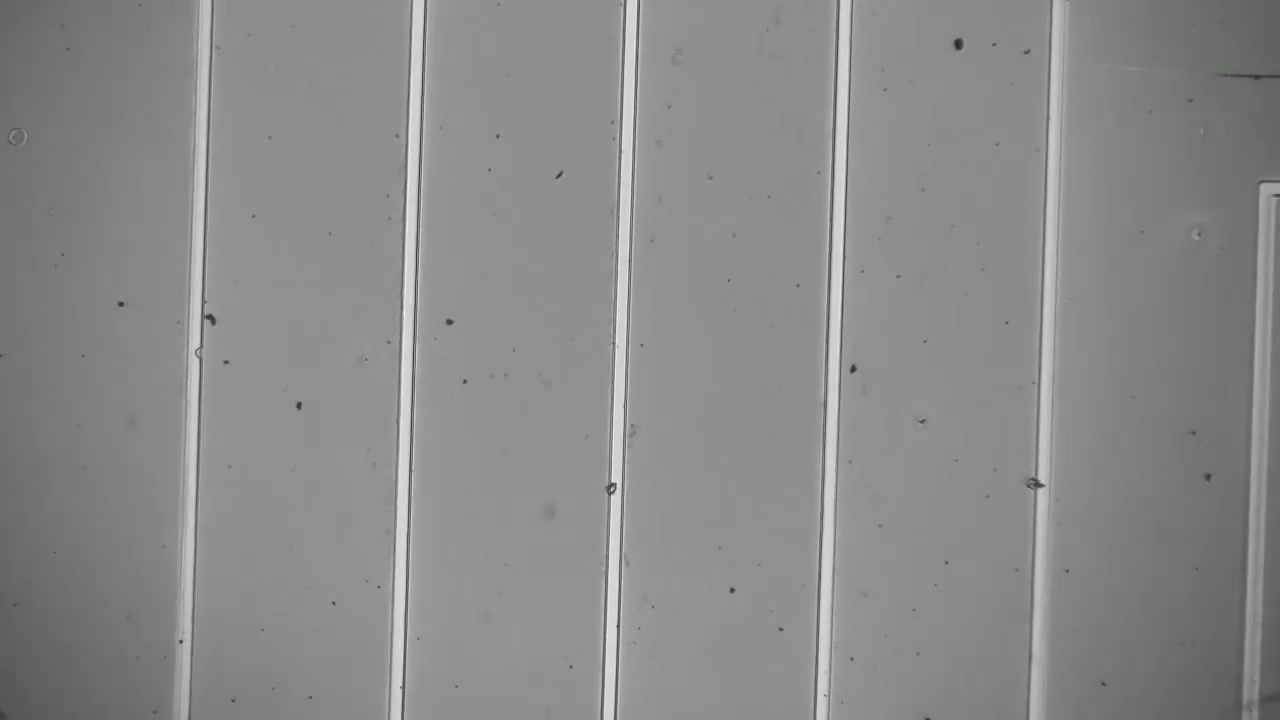edge_bite: (180, 340, 208, 365)
scratch: (1166, 52, 1279, 101)
stains_enbedded: (1020, 466, 1059, 499), (599, 477, 633, 508)
